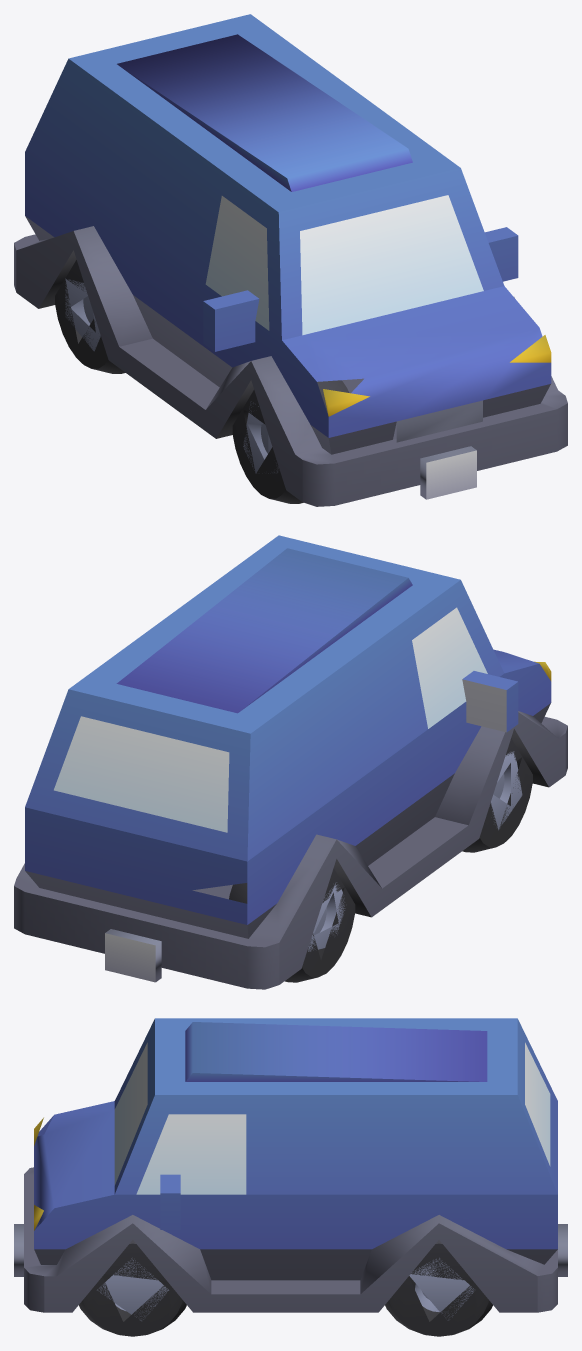
Rendered from shuttle.glb.
3 renders of one model, top to bottom at view 1: azimuth 30°, elevation 25°; view 2: azimuth 150°, elevation 25°; view 3: azimuth 270°, elevation 25°, orthographic. The views are drawn at different scales.
Parts seen in each view (by area): view 1: wheel-front-right; view 2: wheel-front-right; view 3: wheel-front-right.
Part boxes in pixels (x1,y1,x2,y2): wheel-front-right: (14, 14, 567, 506); wheel-front-right: (14, 535, 567, 989); wheel-front-right: (14, 1018, 567, 1336).
Bounding box in the file's own units: 1.5 × 1.35 × 2.75.
Materials: 1 (1 with a texture image).
